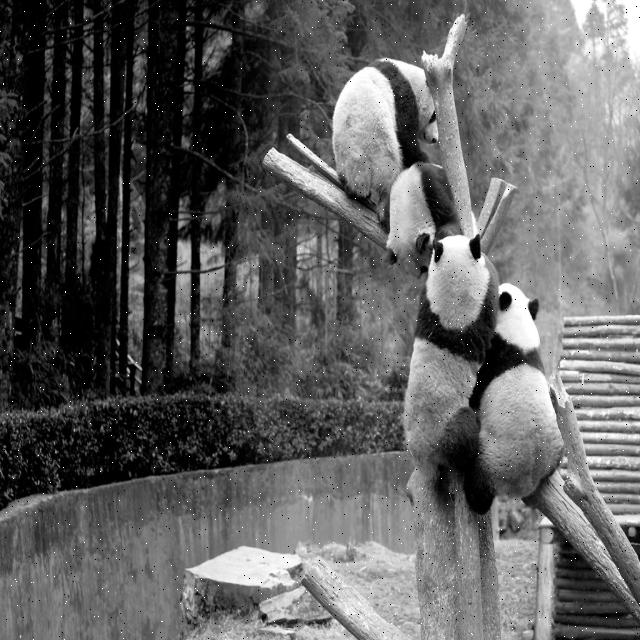panda: (402, 232, 493, 519), (468, 280, 564, 498), (332, 55, 441, 233), (384, 161, 460, 275)
